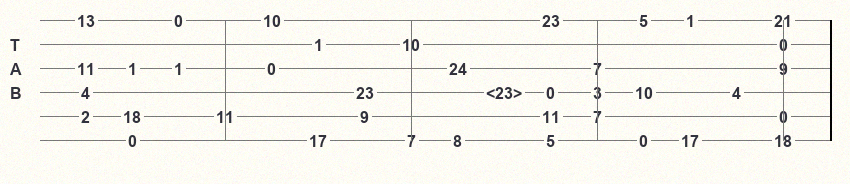0: (128, 132, 141, 148), (174, 12, 187, 28), (267, 60, 280, 76), (546, 84, 559, 100), (639, 132, 652, 148), (779, 36, 792, 52), (779, 108, 792, 124)
1: (128, 60, 141, 76), (174, 60, 187, 76), (314, 36, 327, 52), (686, 12, 699, 28)
10: (263, 12, 285, 28), (402, 36, 424, 52), (635, 84, 657, 100)
11: (77, 60, 99, 76), (216, 108, 238, 124), (542, 108, 564, 124)
13: (77, 12, 99, 28)
17: (309, 132, 331, 148), (681, 132, 703, 148)
18: (123, 108, 145, 124), (774, 132, 796, 148)
2: (81, 108, 94, 124)
21: (774, 12, 796, 28)
23: (356, 84, 378, 100), (542, 12, 564, 28)
24: (449, 60, 471, 76)
3: (593, 84, 606, 100)
4: (81, 84, 94, 100), (732, 84, 745, 100)
5: (546, 132, 559, 148), (639, 12, 652, 28)
7: (407, 132, 420, 148), (593, 108, 606, 124), (593, 60, 606, 76)
8: (453, 132, 466, 148)
9: (360, 108, 373, 124), (779, 60, 792, 76)
harmonic: (486, 84, 526, 100)
